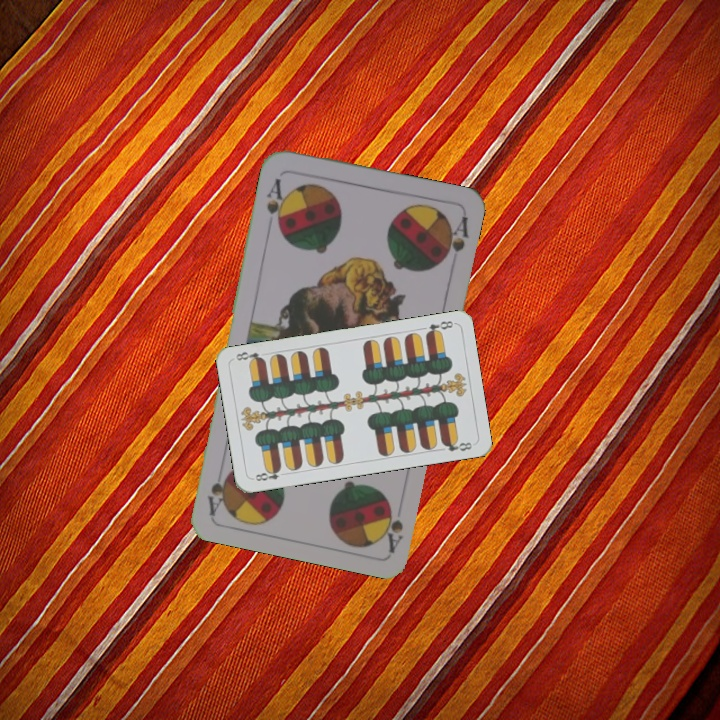E8: (421, 317, 456, 338), (249, 464, 284, 484)
SA: (262, 174, 290, 233), (379, 499, 406, 554)
